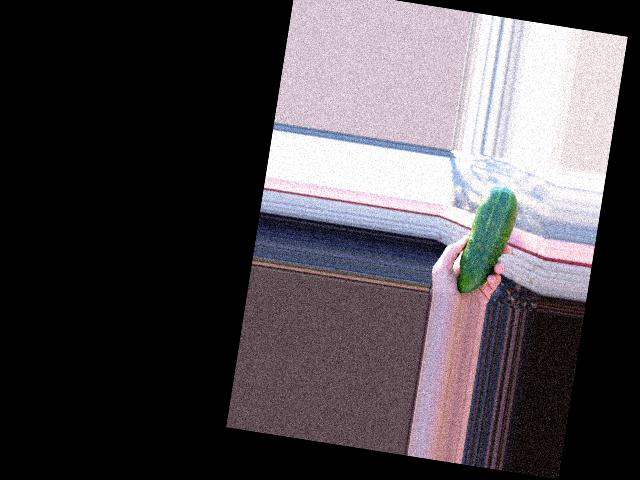cucumber: (456, 181, 521, 299)
